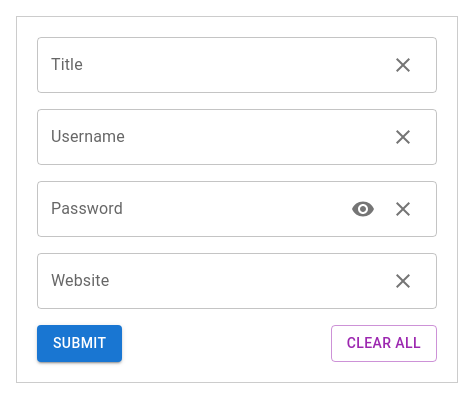
Scenario: AddCredentialForm › clears all fields when Clear All button is clicked
This screenshot has width=475, height=400.
Type "Sample Title" into the field labelled "Title" at (206, 65), box [37,37,375,93]
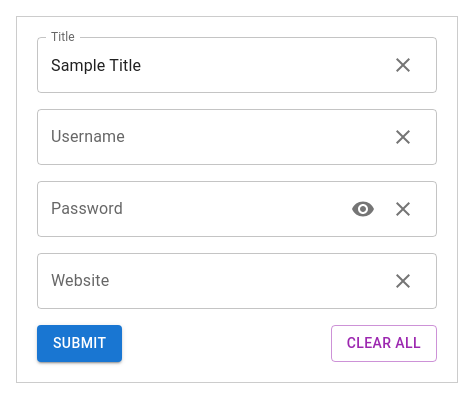
Type "sampleUser" into the field labelled "Username" at (206, 137), box [37,109,375,165]
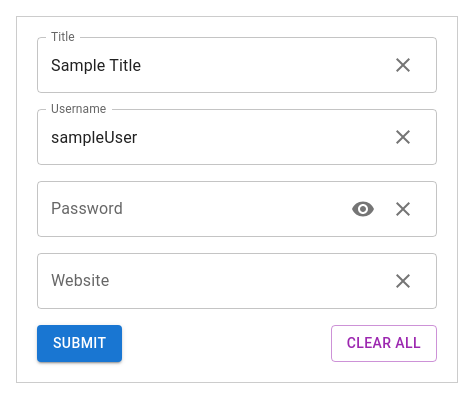
Type "samplePassword" into the password field labelled "Password" at (186, 209), box [37,181,335,237]
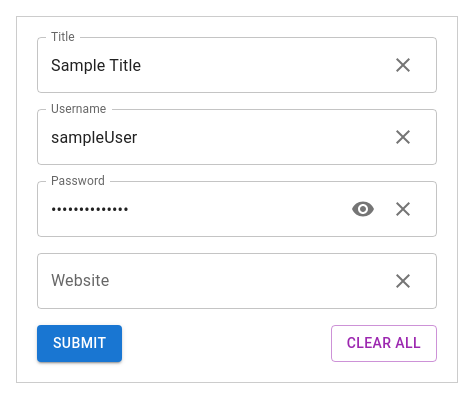
Type "http://example.com" into the field labelled "Website" at (206, 281), box [37,253,375,309]
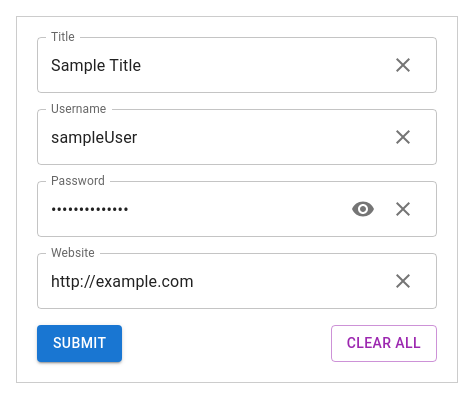
Click the button "Clear All" at (384, 343), box [331,325,437,362]
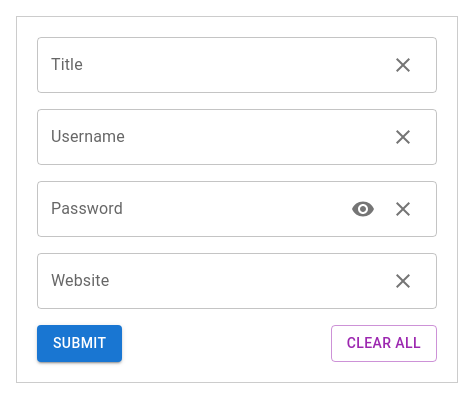
Expected: the field labelled "Title" is empty, [37,37,375,93]
Expected: the field labelled "Username" is empty, [37,109,375,165]
Expected: the password field labelled "Password" is empty, [37,181,335,237]
